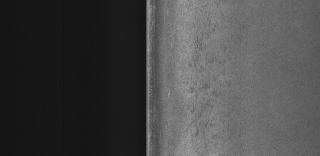silk spot: (184, 10, 242, 150)
